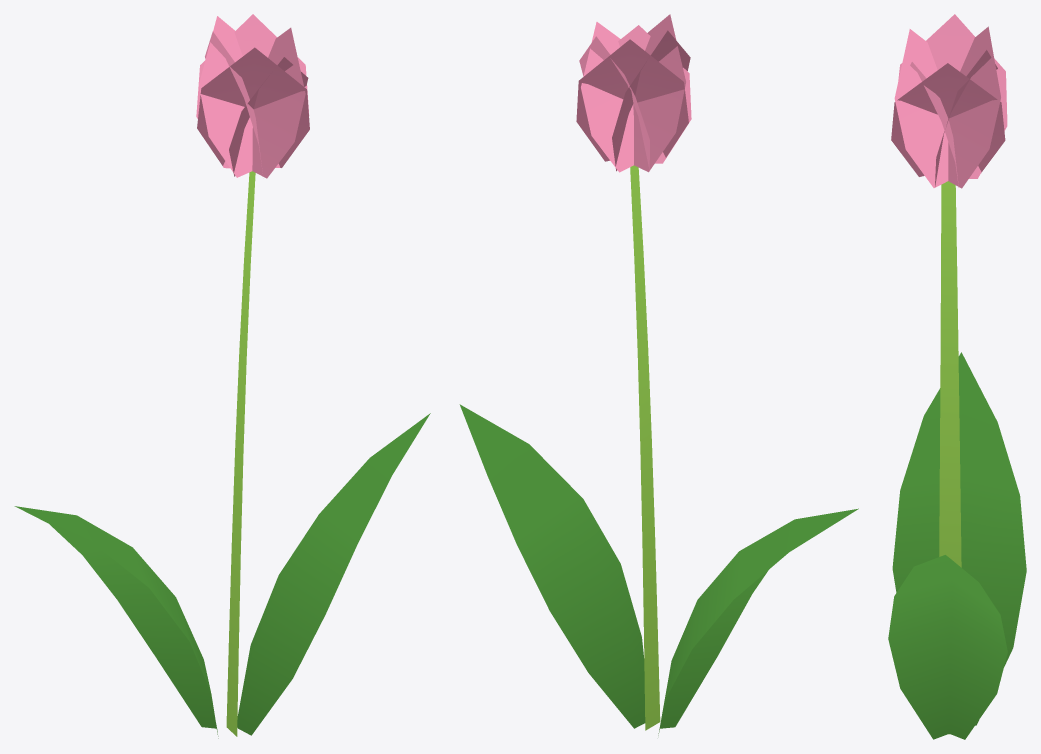
The model's file is tulip1.gltf.
3 renders of one model, left to right at view 1: azimuth 30°, elevation 25°; view 2: azimuth 150°, elevation 25°; view 3: azimuth 270°, elevation 25°, orthographic.
Visible parts, largest first — view 1: tulip1_leaf_LOD0, tulip1_petal_LOD0, tulip1_stalk_LOD0; view 2: tulip1_leaf_LOD0, tulip1_petal_LOD0, tulip1_stalk_LOD0; view 3: tulip1_leaf_LOD0, tulip1_petal_LOD0, tulip1_stalk_LOD0.
Boxes of the visible parts, x1,y1,x2,y2 form: tulip1_leaf_LOD0: [14, 413, 430, 738]; tulip1_petal_LOD0: [196, 14, 309, 178]; tulip1_stalk_LOD0: [226, 171, 255, 736]; tulip1_leaf_LOD0: [459, 404, 858, 735]; tulip1_petal_LOD0: [576, 14, 691, 172]; tulip1_stalk_LOD0: [630, 165, 660, 730]; tulip1_leaf_LOD0: [888, 352, 1026, 739]; tulip1_petal_LOD0: [891, 14, 1007, 188]; tulip1_stalk_LOD0: [939, 181, 961, 734].
Size of what is drawn, in the model's own units: 0.3228 by 0.5307 by 0.0936.
